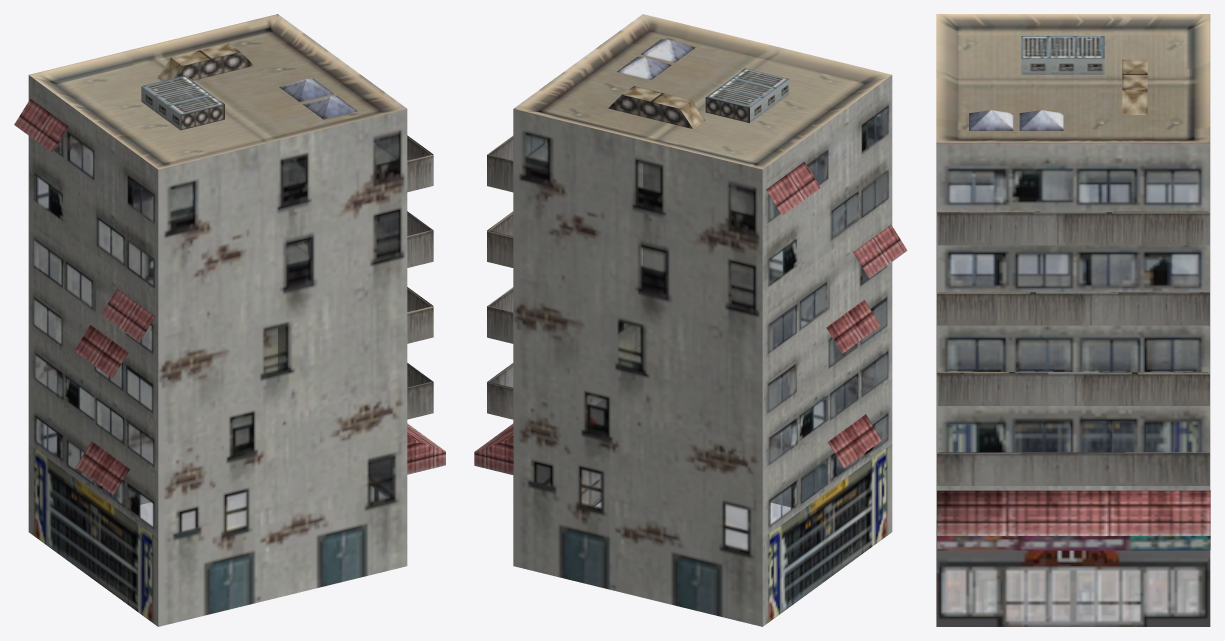
Rendered from Civilian - Residential Building - Asian Apartment 01 - Night - CBNApart01_N.glb.
3 views of the same model, side by side, from view 1: azimuth 30°, elevation 25°; view 2: azimuth 150°, elevation 25°; view 3: azimuth 270°, elevation 25° (orthographic). The views are drawn at different scales.
Parts seen in each view (by area): view 1: CBNAPART01_N; view 2: CBNAPART01_N; view 3: CBNAPART01_N.
Part boxes in pixels (left/top/right/bottom): CBNAPART01_N: left=14, top=14, right=445, bottom=626; CBNAPART01_N: left=474, top=14, right=907, bottom=626; CBNAPART01_N: left=936, top=14, right=1210, bottom=626.
Size of the model in its own units: 48.98 by 71.91 by 36.04.
Materials: 1 (1 with a texture image).
